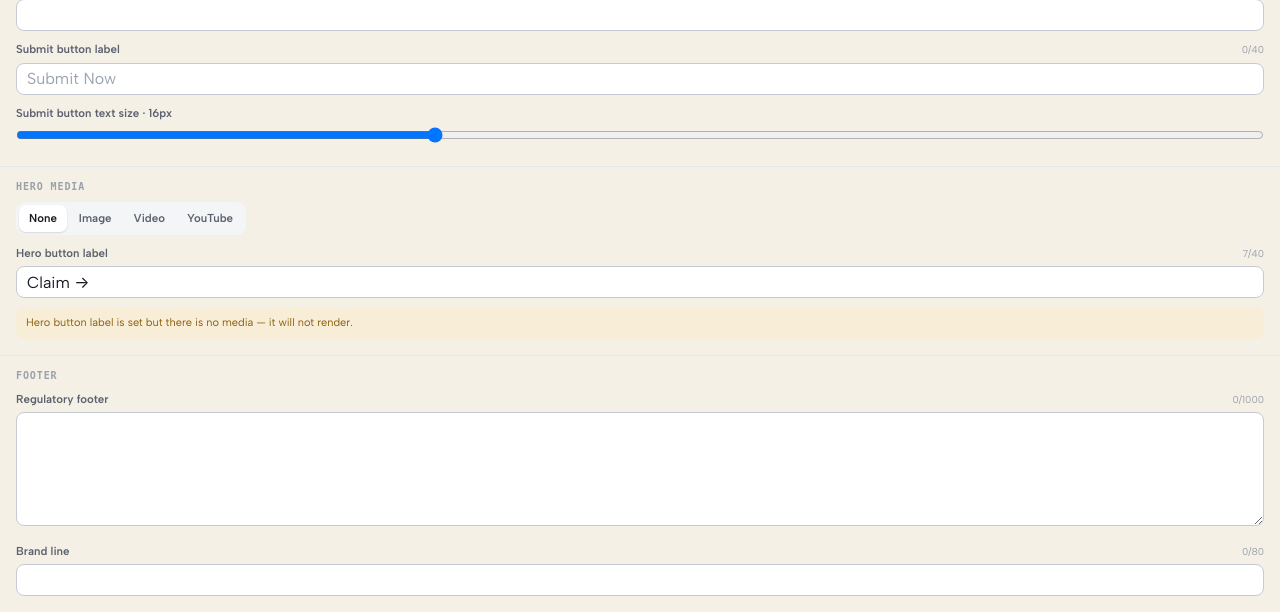
Test: PagePanel — doc round-trips › warns when a hero CTA label exists without media
(page scrolled)
Expected: the text "Hero button label is set but there is no media" is shown, x1=26 y1=316 x2=353 y2=329
Clear the field labelled "Hero button label" at coordinates (640, 282), box x1=16 y1=266 x2=1264 y2=298
(page scrolled)
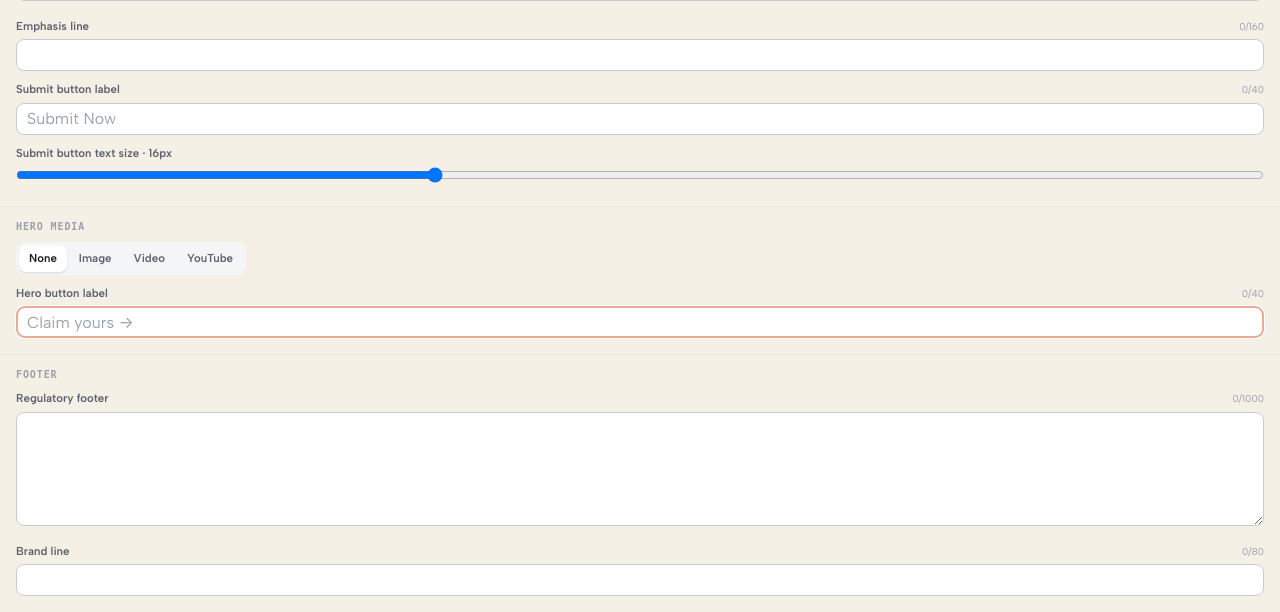
Expected: the text "Hero button label is set but there is no media" is gone
